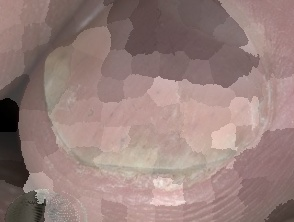Nail_psoriasis: (21, 0, 294, 212)
